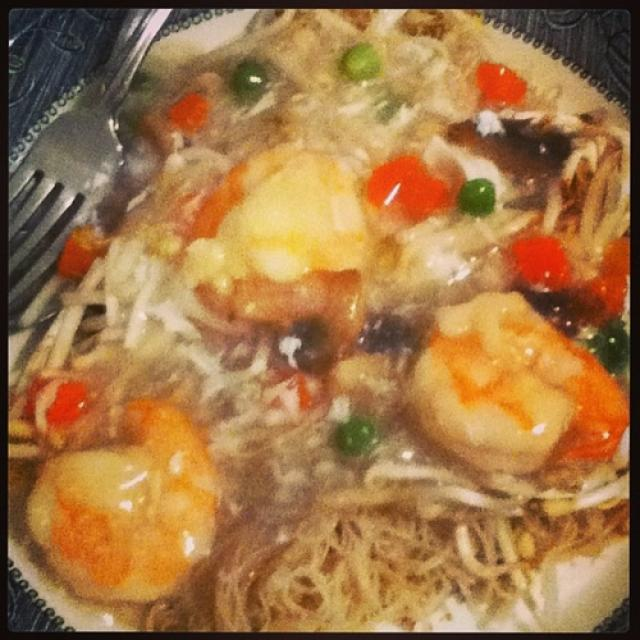面条主食: (27, 28, 623, 631)
